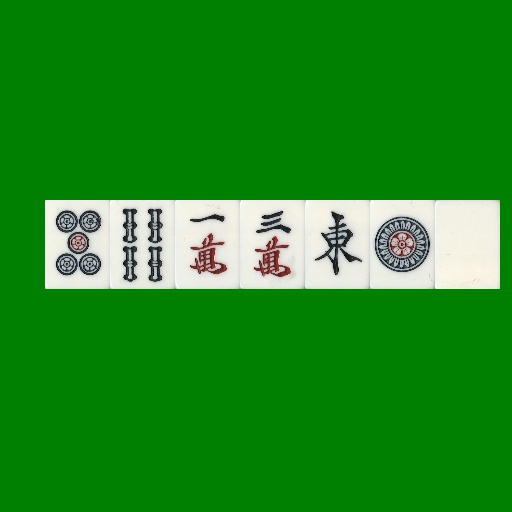1m: (175, 200, 240, 289)
1p: (370, 200, 435, 289)
3m: (240, 200, 305, 289)
4s: (110, 200, 175, 289)
5p: (45, 200, 110, 289)
east: (305, 200, 370, 289)
white: (435, 200, 500, 289)
